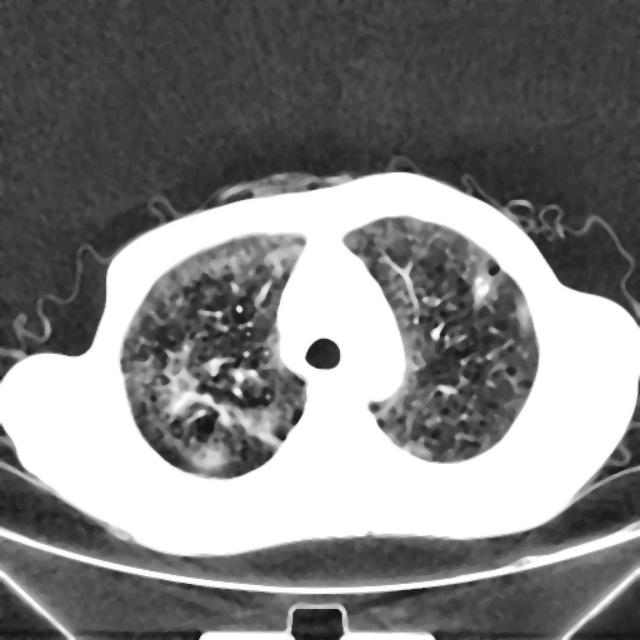covid: (1, 167, 638, 557)
